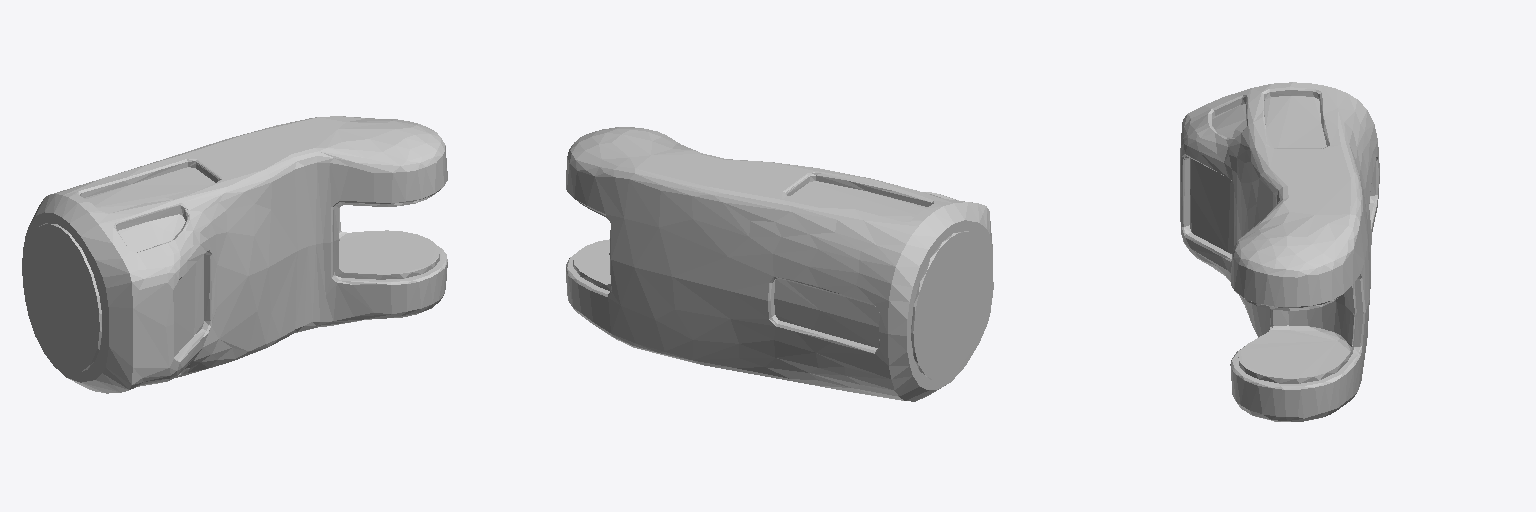
File: forearm.obj
The picture shows the model from 3 angles: view 1: azimuth 30°, elevation 25°; view 2: azimuth 150°, elevation 25°; view 3: azimuth 270°, elevation 25°; orthographic projection.
Parts seen in each view (by area): view 1: forearm3_M1700_forearm3_M1700Shape; view 2: forearm3_M1700_forearm3_M1700Shape; view 3: forearm3_M1700_forearm3_M1700Shape.
Part boxes in pixels (x1,y1,x2,y2): forearm3_M1700_forearm3_M1700Shape: (22, 116, 447, 393); forearm3_M1700_forearm3_M1700Shape: (566, 127, 993, 401); forearm3_M1700_forearm3_M1700Shape: (1180, 82, 1379, 421).
Size of the model in its own units: 0.2637 by 0.1201 by 0.121.